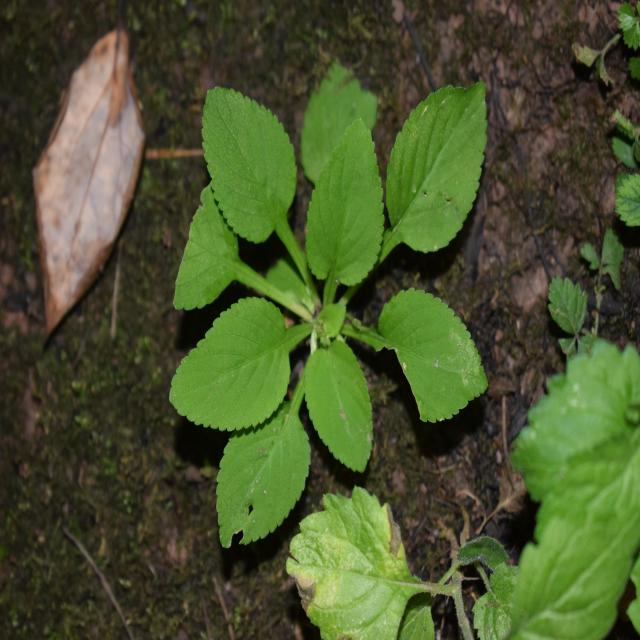Viola: (169, 67, 495, 508)
